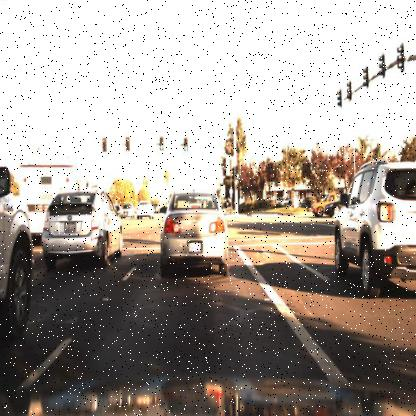car: (323, 119, 415, 317), (144, 174, 247, 289), (0, 140, 38, 365), (40, 187, 125, 266), (14, 153, 79, 210), (9, 187, 41, 227), (131, 189, 158, 225), (311, 191, 340, 220), (311, 188, 324, 219)
trafficLight: (123, 134, 131, 162), (100, 134, 108, 156), (158, 133, 165, 153)
trafficLight-Green: (178, 134, 192, 167), (233, 160, 241, 185), (155, 137, 163, 161), (233, 163, 241, 181)
trafficLight-Red: (182, 132, 189, 154)
trafficLight-RedLeft: (98, 132, 108, 159)
truck: (16, 160, 94, 248)
